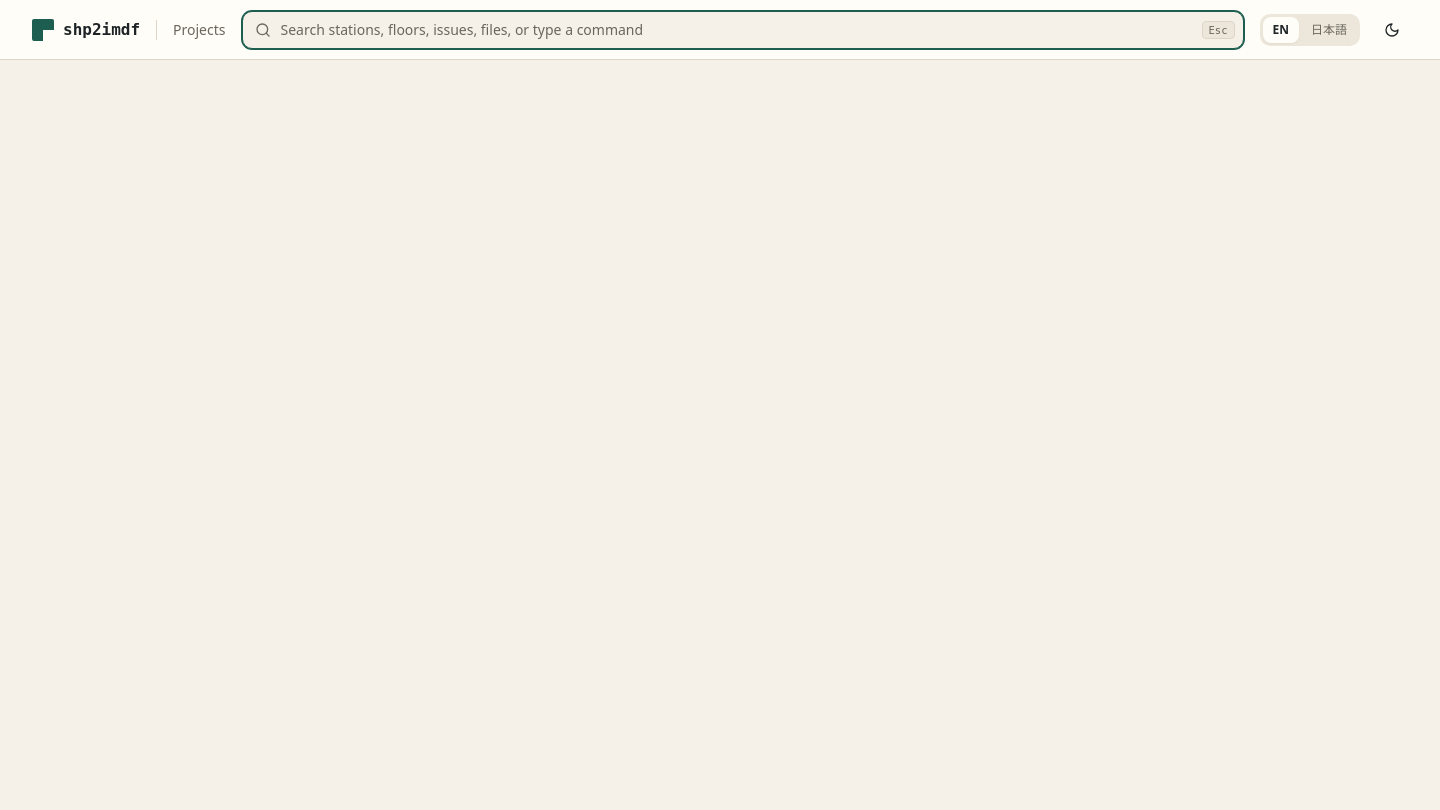
Test: SearchPalette › previews a typed command, outlines it, and applies it at the revision it was read at
Type "assign 屋外 to 1F outdoor" into the dropdown at (736, 30), box [280,12,1192,48]
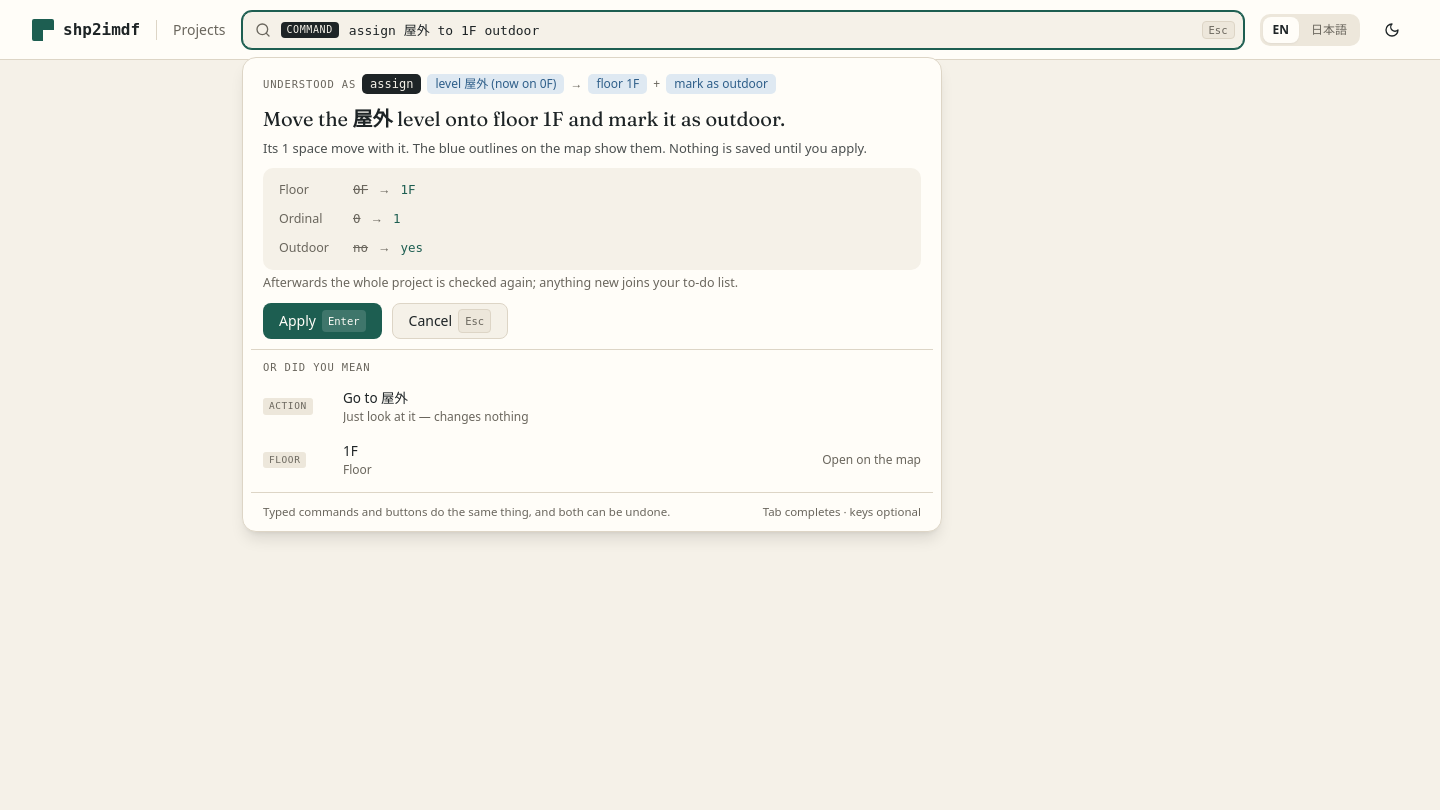
Now the text "Move the 屋外 level onto floor 1F and mark it as outdoor." is shown, box [263,106,785,131]
Now the text "level 屋外 (now on 0F)" is shown, box [428,74,564,94]
Press Enter in the dropdown, box [349,12,1192,48]
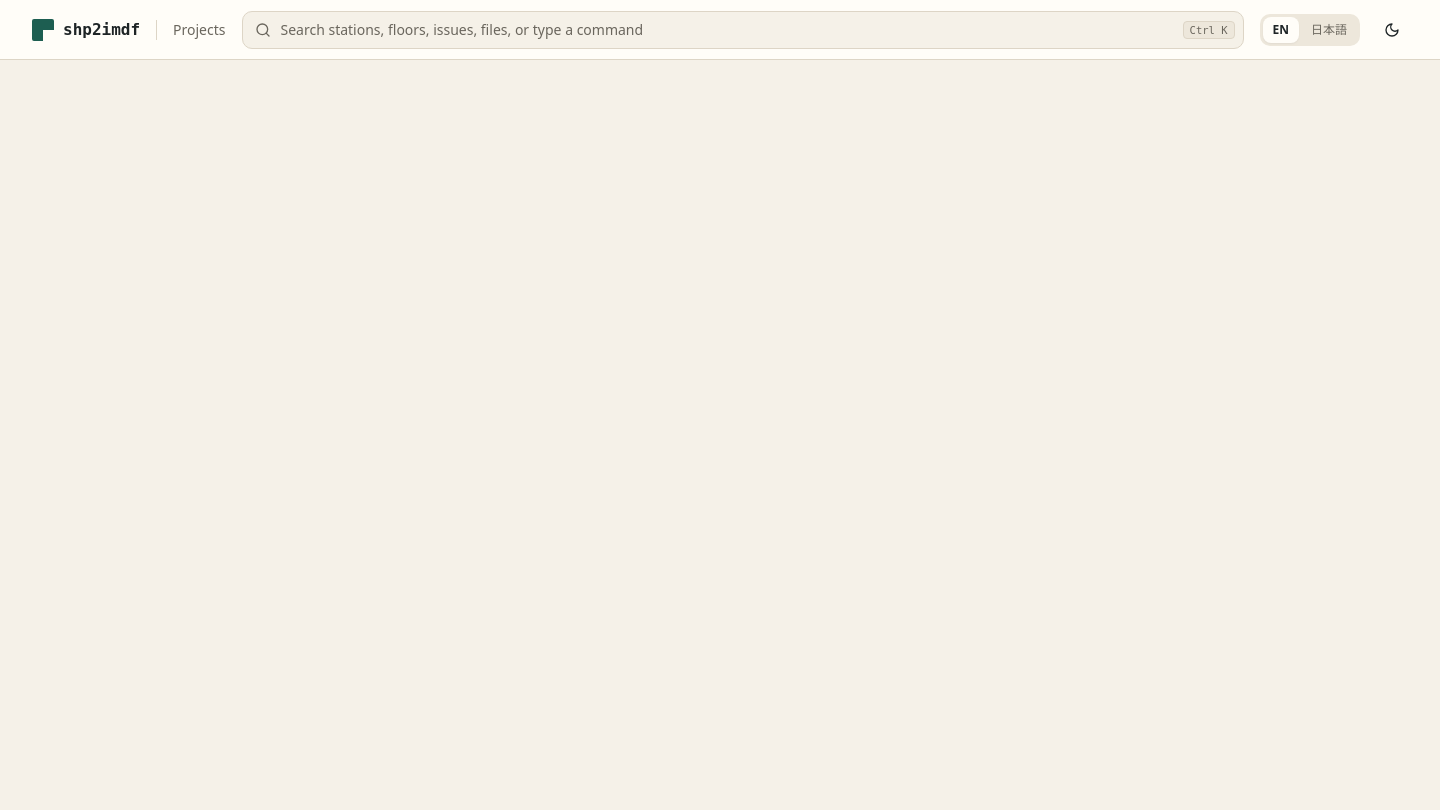
Now the dropdown is collapsed, box [280,12,1173,48]
